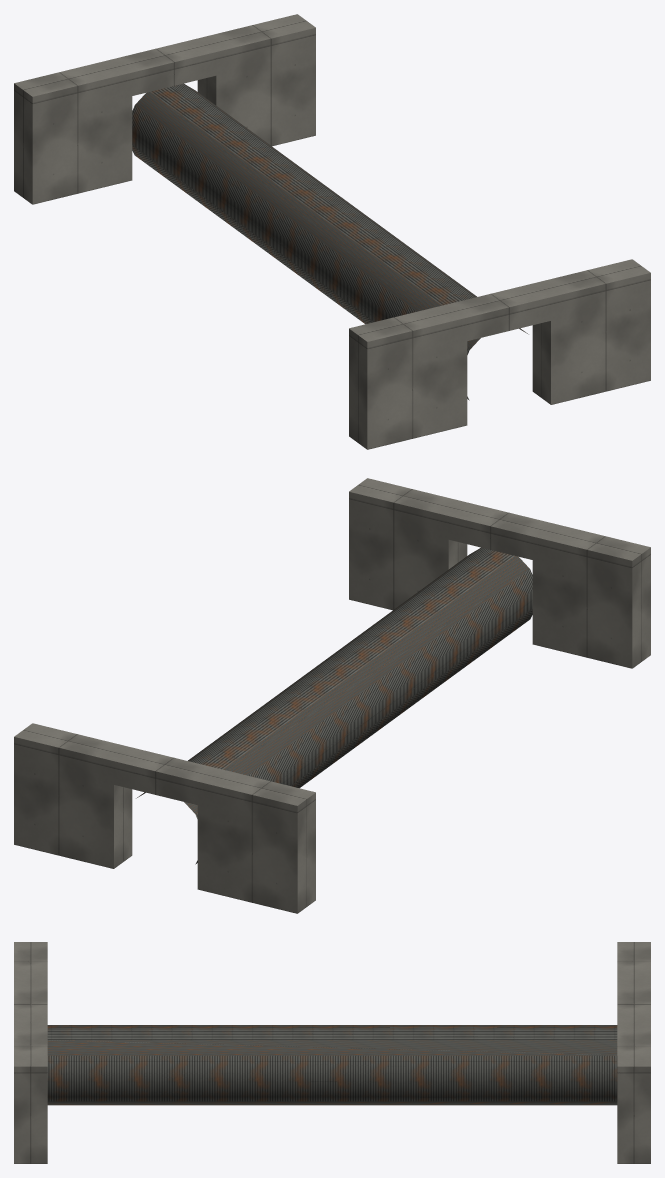
Rendered from culvert.glb.
3 views of the same model, one above another, from view 1: azimuth 30°, elevation 25°; view 2: azimuth 150°, elevation 25°; view 3: azimuth 270°, elevation 25° (orthographic). The views are drawn at different scales.
Visible parts, largest first — view 1: culvert; view 2: culvert; view 3: culvert.
Boxes of the visible parts, x1=… form: culvert: x1=14, y1=14, x2=650, y2=449; culvert: x1=14, y1=478, x2=650, y2=913; culvert: x1=14, y1=942, x2=650, y2=1163.
Bounding box in the file's own units: 4.4 × 1.6 × 9.5.
2 materials, 2 textured.
